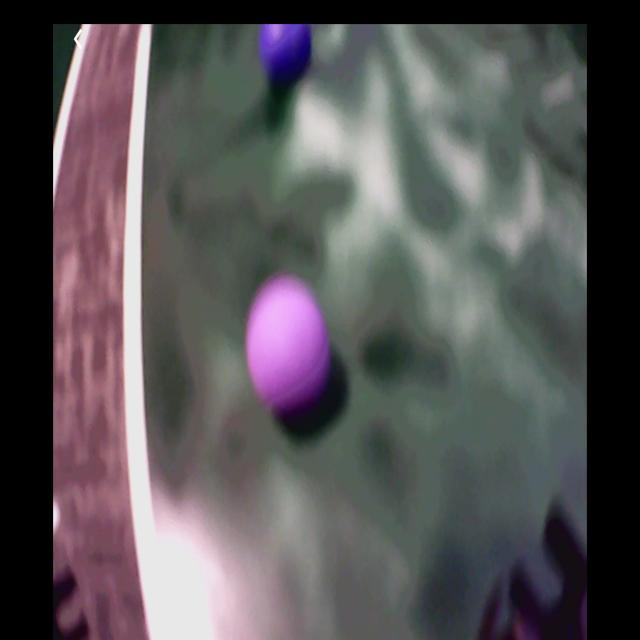ball: (247, 277, 332, 417), (261, 24, 315, 82)
